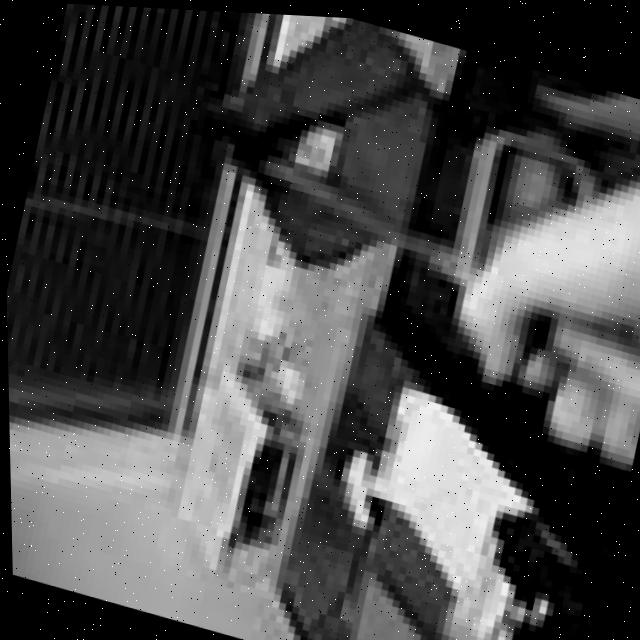knife: (224, 146, 640, 411)
